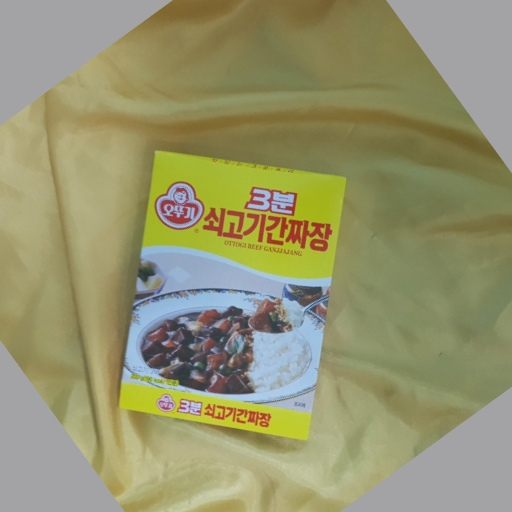Paper_0: (116, 137, 352, 453)
